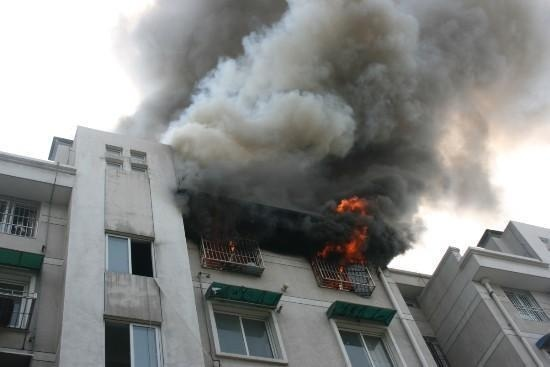fire: (322, 197, 370, 262)
